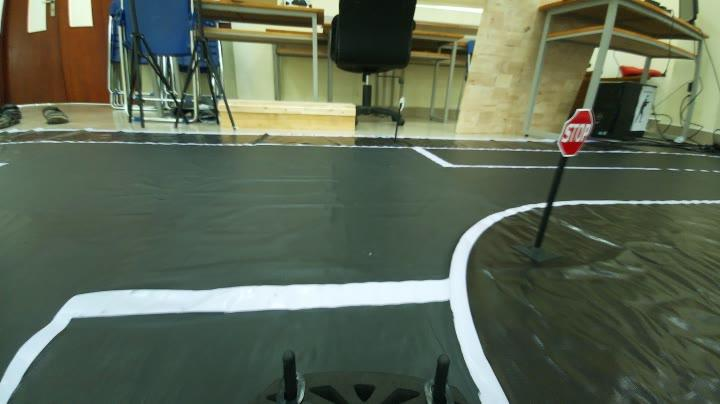stop: (550, 102, 598, 161)
